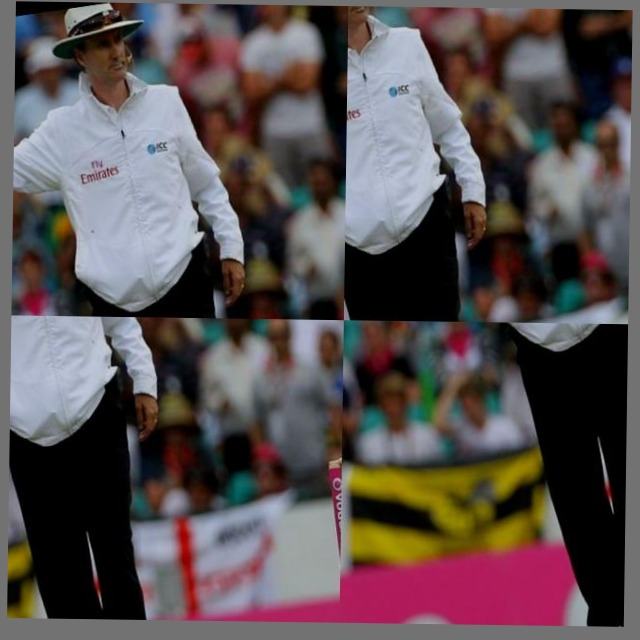No_Ball: (339, 320, 628, 627)
Out: (13, 43, 98, 216)
Six: (346, 6, 446, 166)
Wide: (10, 315, 123, 438)
